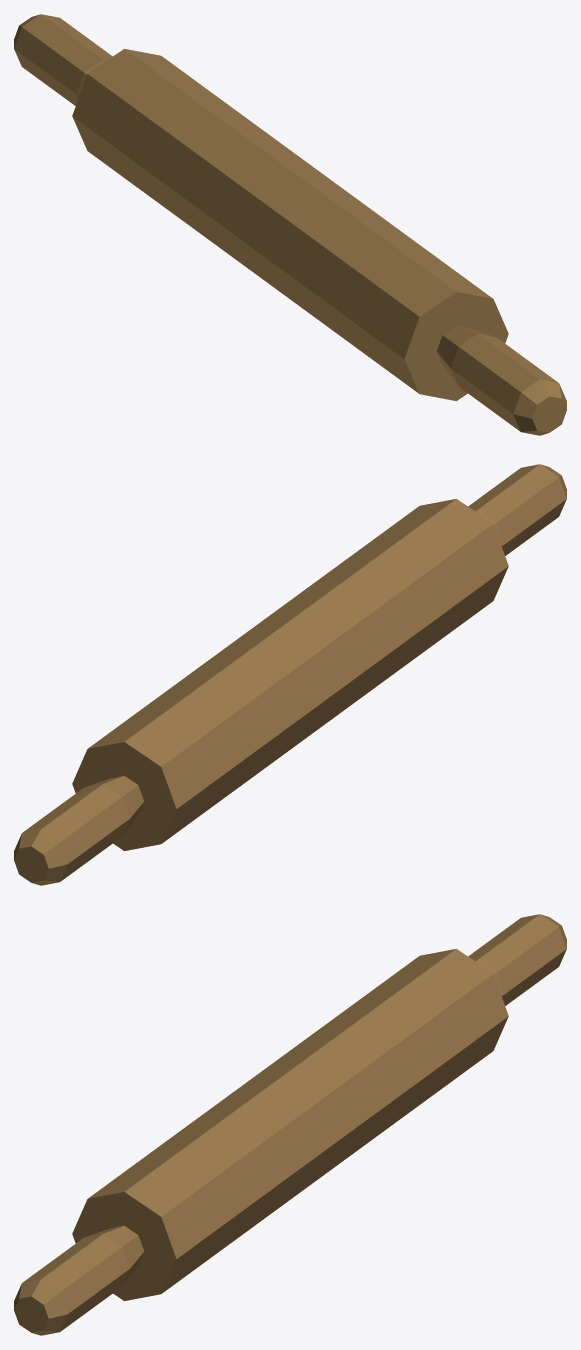
The model's file is RollingPin.fbx.
The picture shows the model from 3 angles, top to bottom: view 1: azimuth 30°, elevation 25°; view 2: azimuth 150°, elevation 25°; view 3: azimuth 330°, elevation 25°; orthographic projection.
Parts seen in each view (by area): view 1: Cylinder; view 2: Cylinder; view 3: Cylinder.
Boxes of the visible parts, box(x1,y1,x2,y2) form: Cylinder: box(14, 14, 566, 435); Cylinder: box(14, 464, 566, 885); Cylinder: box(14, 914, 566, 1335).
Bounding box in the file's own units: 26.56 × 26.56 × 228.
